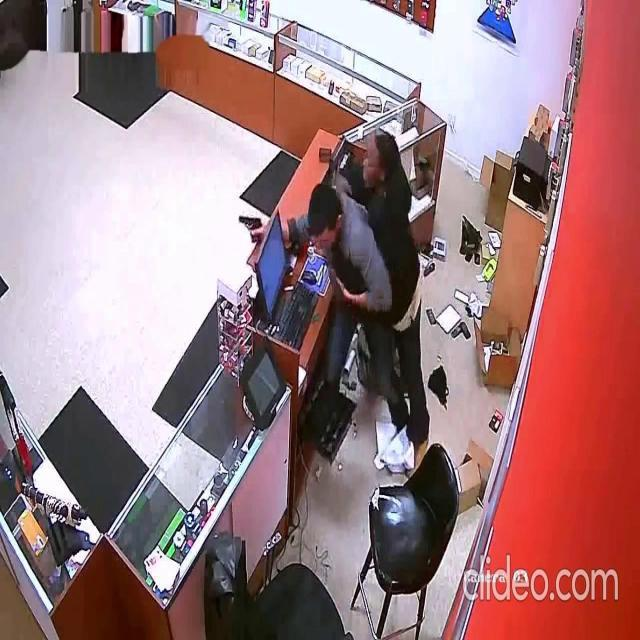pistol: (238, 214, 262, 244)
